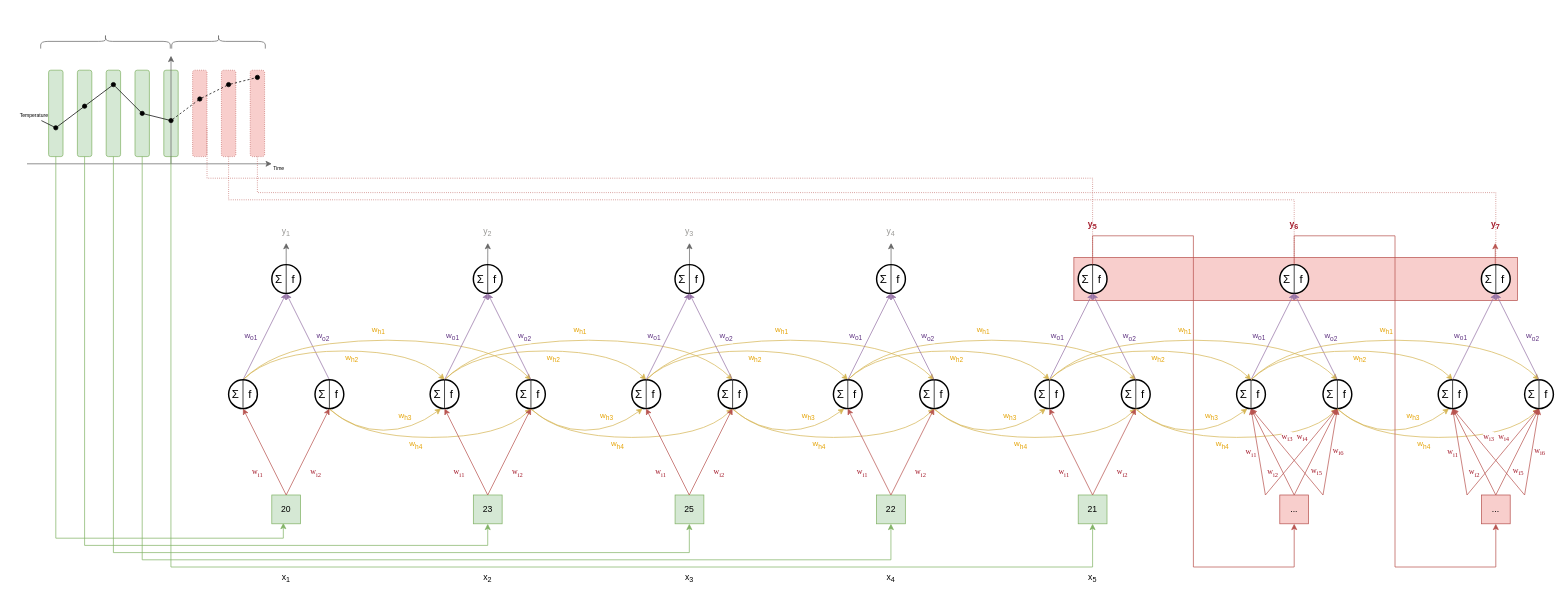
The diagram is 1566 pixels wide and 600 high, and some of its shapes have lost their labels. The box of each missing label's shape, as (x1, y1, x2, y2) in pixels:
Future: (171, 33, 265, 49)
Past: (40, 33, 170, 49)
